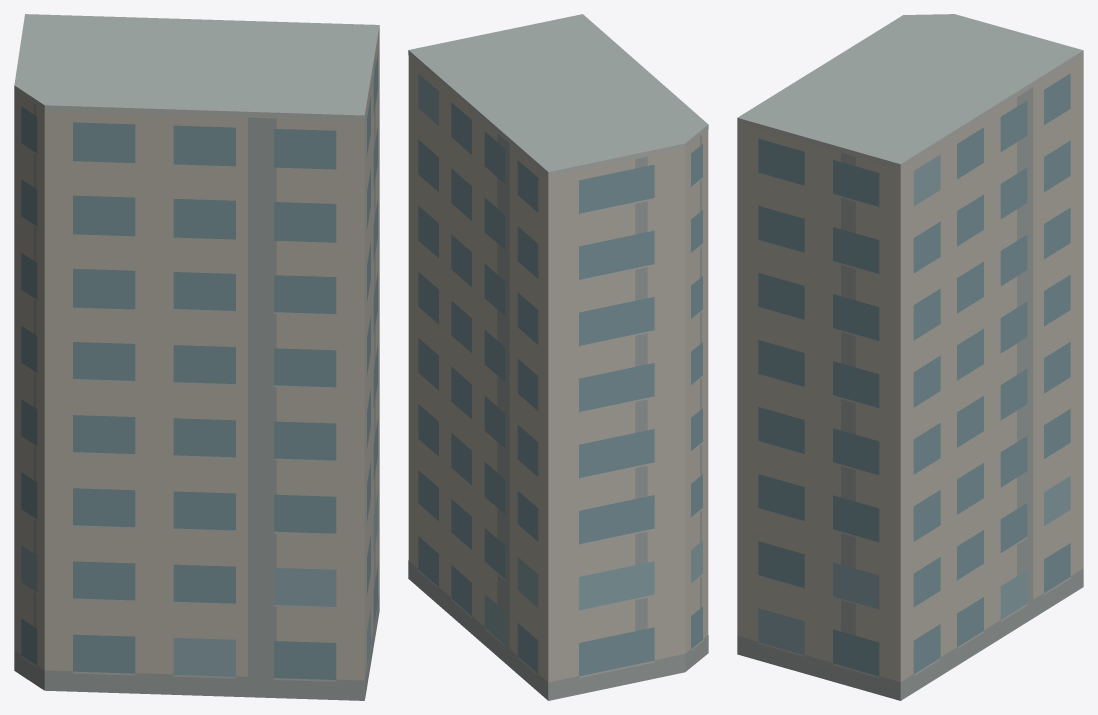
The model's file is survey-upis-32883205.glb.
3 views of the same model, side by side, from view 1: azimuth 30°, elevation 25°; view 2: azimuth 150°, elevation 25°; view 3: azimuth 270°, elevation 25° (orthographic). The views are drawn at different scales.
Visible parts, largest first — view 1: survey-upis-32883205.tmp; view 2: survey-upis-32883205.tmp; view 3: survey-upis-32883205.tmp.
Part boxes in pixels (left/top/right/bottom): survey-upis-32883205.tmp: left=14, top=14, right=379, bottom=700; survey-upis-32883205.tmp: left=408, top=14, right=708, bottom=700; survey-upis-32883205.tmp: left=737, top=14, right=1083, bottom=700.
Bounding box in the file's own units: 14.78 × 24.6 × 14.4.
